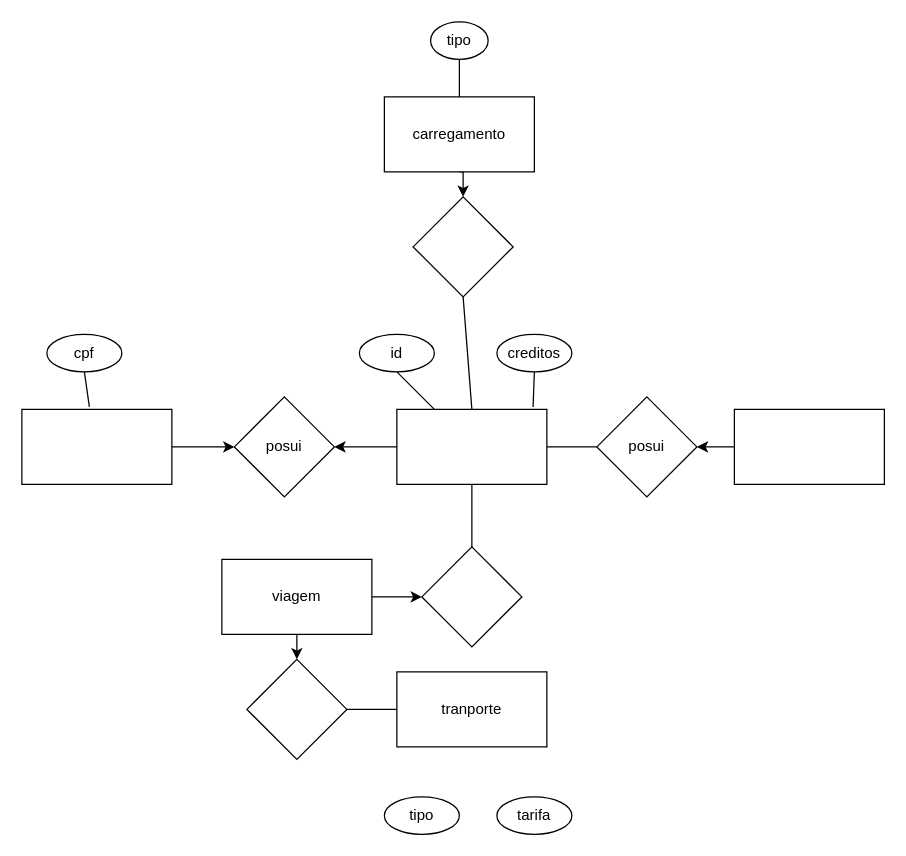
Some shapes in this 906 by 856 pixel diagram are drawn without their labels. The box of each missing label's shape, as (x1, y1, x2, y2) in pixels:
carrega: (412, 196, 513, 297)
cartao: (733, 408, 884, 484)
com: (421, 546, 522, 647)
conta: (396, 408, 547, 484)
de: (246, 658, 347, 759)
usuario: (21, 408, 172, 484)
